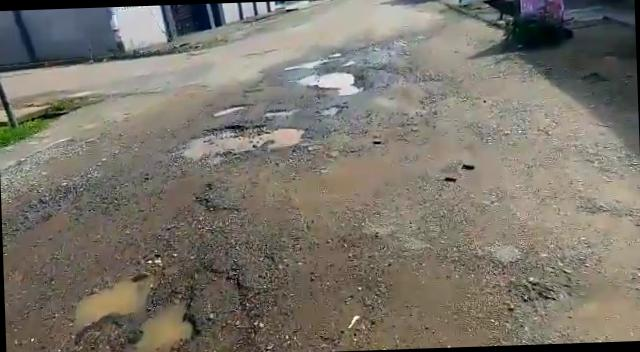pothole: (71, 272, 197, 352), (168, 120, 298, 166), (292, 68, 361, 90), (284, 58, 330, 70), (215, 104, 249, 118), (263, 108, 298, 118)
